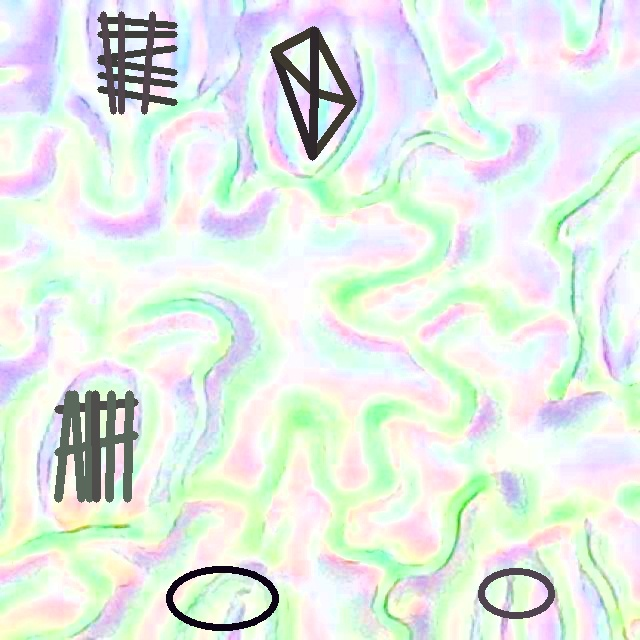open: (271, 26, 356, 159), (55, 391, 137, 501), (97, 11, 177, 114), (166, 565, 279, 630), (477, 567, 556, 619)
